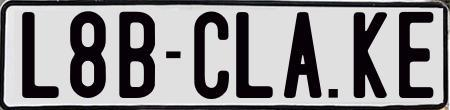8: (70, 10, 109, 98)
A: (281, 10, 319, 102)
B: (119, 10, 159, 97)
C: (191, 10, 229, 102)
E: (397, 11, 432, 98)
K: (351, 12, 384, 100)
L: (22, 12, 62, 103), (233, 12, 274, 100)
